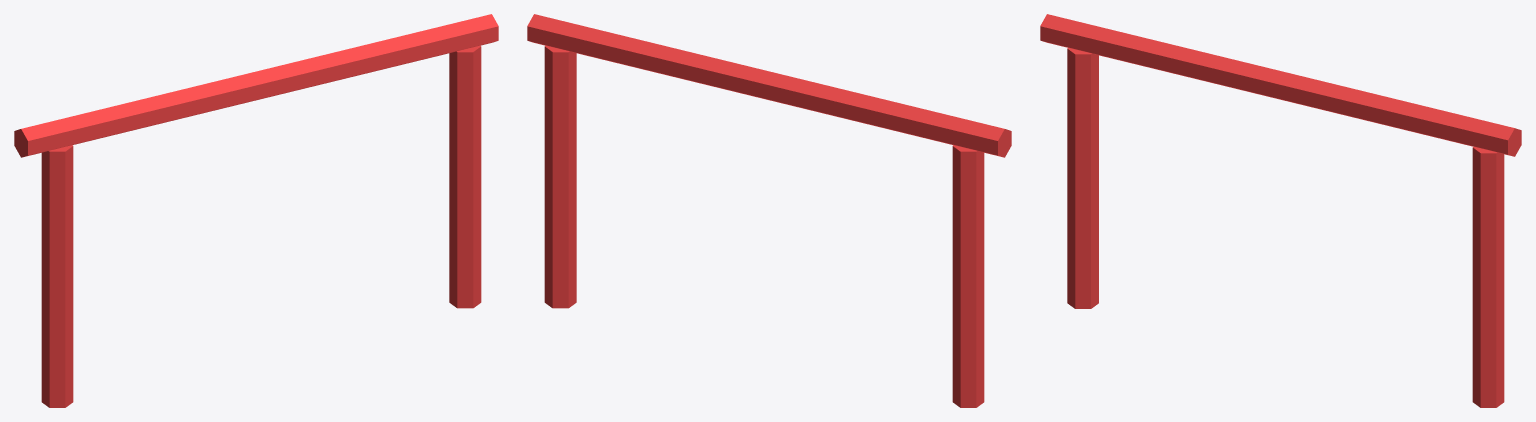
Rendered from MD_Railing.fbx.
3 views of the same model, side by side, from view 1: azimuth 30°, elevation 25°; view 2: azimuth 150°, elevation 25°; view 3: azimuth 330°, elevation 25° (orthographic).
Parts seen in each view (by area): view 1: MD_Railing; view 2: MD_Railing; view 3: MD_Railing.
Boxes of the visible parts, box(x1,y1,x2,y2) form: MD_Railing: box(14, 14, 498, 407); MD_Railing: box(527, 14, 1011, 407); MD_Railing: box(1040, 14, 1521, 407).
Bounding box in the file's own units: 200 × 115 × 11.74.
